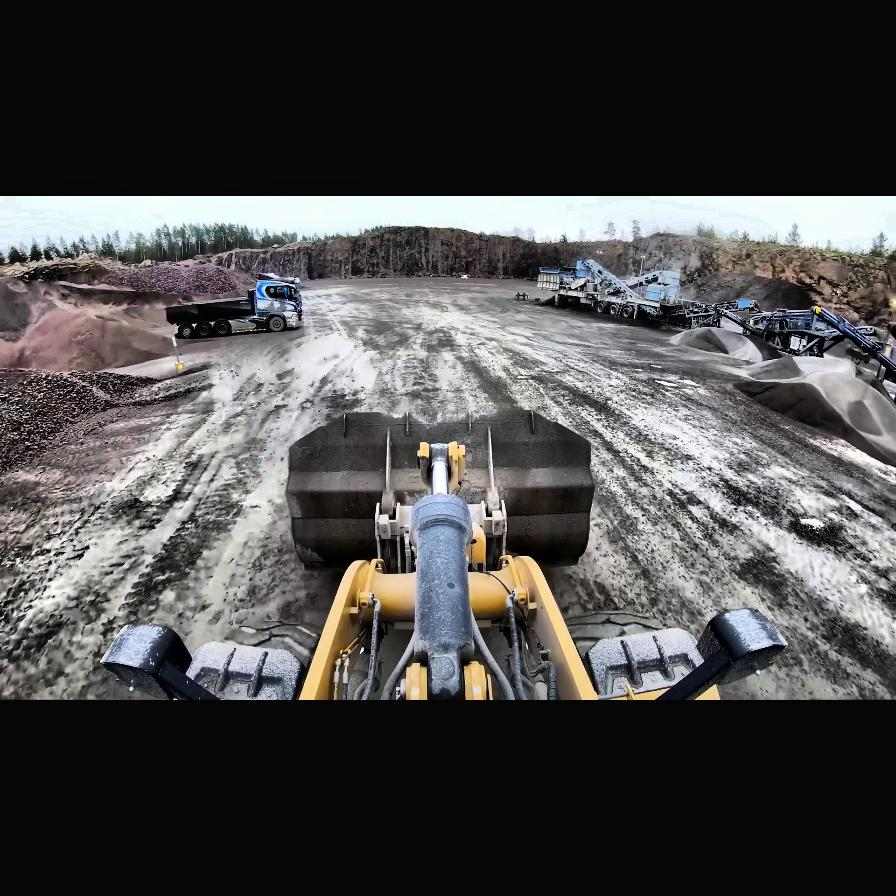anchor: (418, 440, 464, 496)
pile of gravel: (728, 359, 896, 469), (0, 310, 218, 376), (104, 262, 252, 294)
